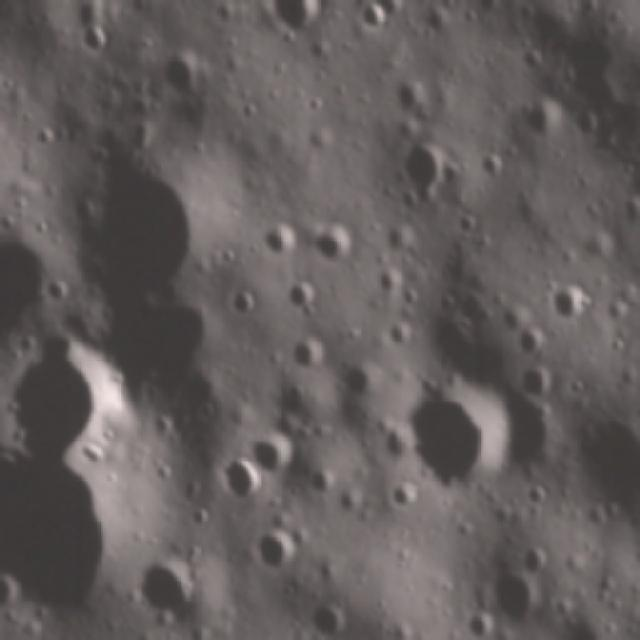crater: (76, 151, 207, 303), (4, 468, 122, 618), (5, 344, 124, 464), (405, 377, 509, 486), (497, 398, 568, 482), (136, 556, 196, 616), (400, 141, 451, 199), (489, 572, 538, 628), (248, 434, 297, 481), (222, 452, 264, 506), (306, 222, 356, 266), (547, 282, 595, 326), (160, 53, 203, 99), (256, 528, 298, 574), (284, 272, 322, 320), (341, 363, 379, 408), (378, 417, 414, 463), (521, 102, 562, 140), (513, 364, 556, 399), (310, 603, 348, 640), (388, 80, 426, 117), (516, 545, 549, 583), (262, 224, 296, 259), (292, 334, 323, 372), (352, 3, 388, 34), (77, 25, 111, 57), (389, 479, 418, 516), (476, 150, 506, 185), (513, 327, 544, 359), (463, 608, 495, 637), (377, 266, 406, 296), (388, 227, 418, 256), (388, 323, 419, 351), (29, 122, 57, 152), (44, 278, 70, 308), (229, 294, 256, 317), (456, 215, 478, 239)
